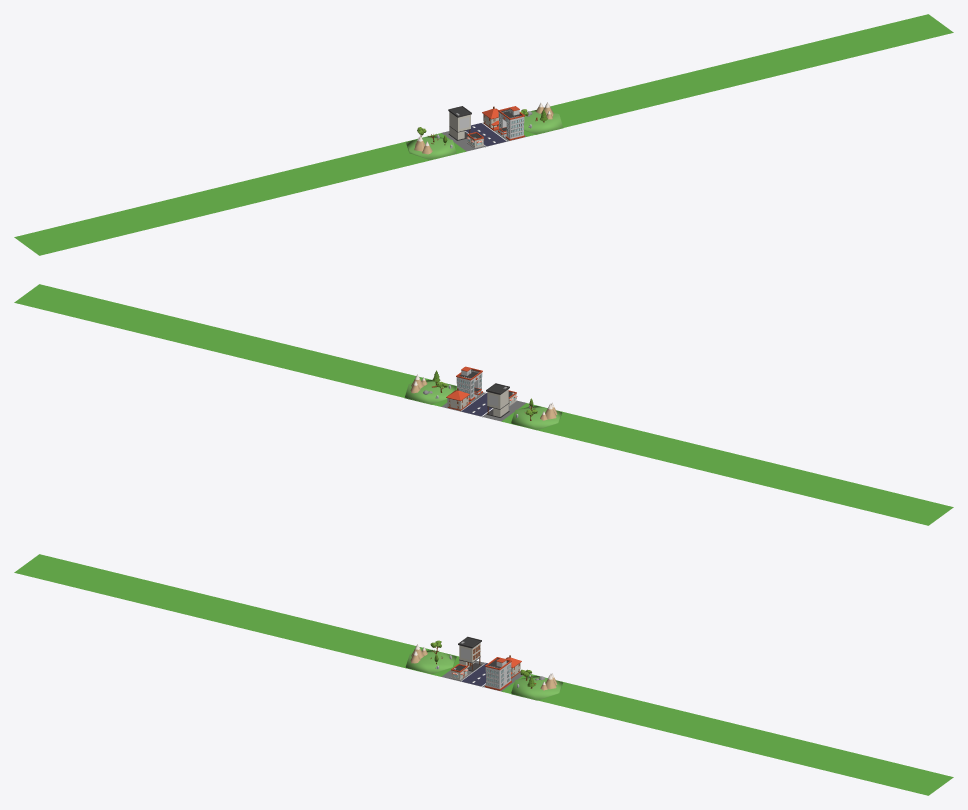
The model's file is naseljev2.glb.
The picture shows the model from 3 angles, top to bottom: view 1: azimuth 30°, elevation 25°; view 2: azimuth 150°, elevation 25°; view 3: azimuth 330°, elevation 25°; orthographic projection.
Parts seen in each view (by area): view 1: Plane.003, Plane.004, Hospital_Cube.023, Object_8.002, Plane.008, Object_8.001; view 2: Plane.003, Plane.004, Object_8.001, Object_8.002, Hospital_Cube.023, Plane.008; view 3: Plane.003, Plane.004, Hospital_Cube.023, Object_8.002, Object_8.001.
Boxes of the visible parts, x1=… form: Plane.003: x1=524, y1=14, x2=953, y2=136; Plane.004: x1=14, y1=133, x2=466, y2=255; Hospital_Cube.023: x1=498, y1=106, x2=524, y2=140; Object_8.002: x1=406, y1=136, x2=456, y2=159; Plane.008: x1=364, y1=141, x2=408, y2=169; Object_8.001: x1=524, y1=110, x2=563, y2=134; Plane.003: x1=14, y1=284, x2=456, y2=406; Plane.004: x1=501, y1=403, x2=953, y2=525; Object_8.001: x1=404, y1=379, x2=456, y2=404; Object_8.002: x1=511, y1=406, x2=562, y2=429; Hospital_Cube.023: x1=456, y1=366, x2=482, y2=400; Plane.008: x1=558, y1=411, x2=603, y2=439; Plane.003: x1=501, y1=673, x2=953, y2=795; Plane.004: x1=14, y1=554, x2=459, y2=676; Hospital_Cube.023: x1=485, y1=657, x2=511, y2=690; Object_8.002: x1=405, y1=650, x2=456, y2=673; Object_8.001: x1=511, y1=675, x2=562, y2=700.
Size of the model in its own units: 1290 by 40.92 by 62.2.
Materials: 19 (5 with a texture image).
